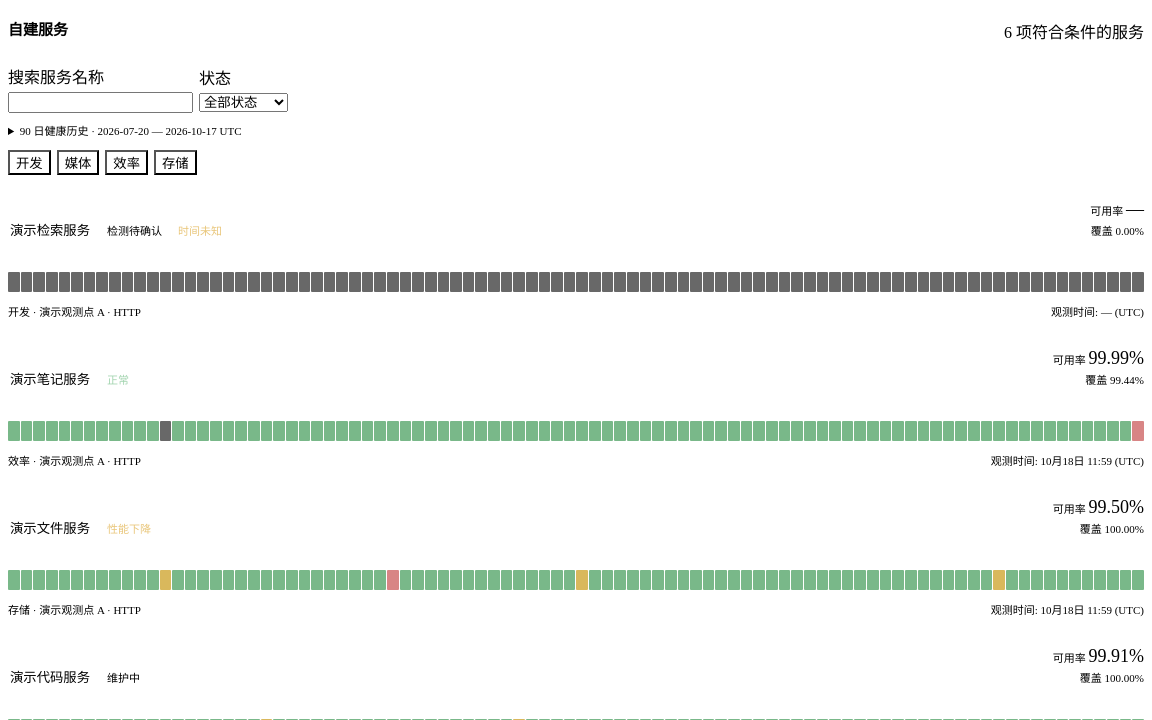
pending checks without an observation remain selectable and unmonitored entries stay separate
This screenshot has width=1152, height=720.
Step 1. Select "检测待确认" in the dropdown labelled "状态" → (244, 102), box x1=199 y1=93 x2=288 y2=112
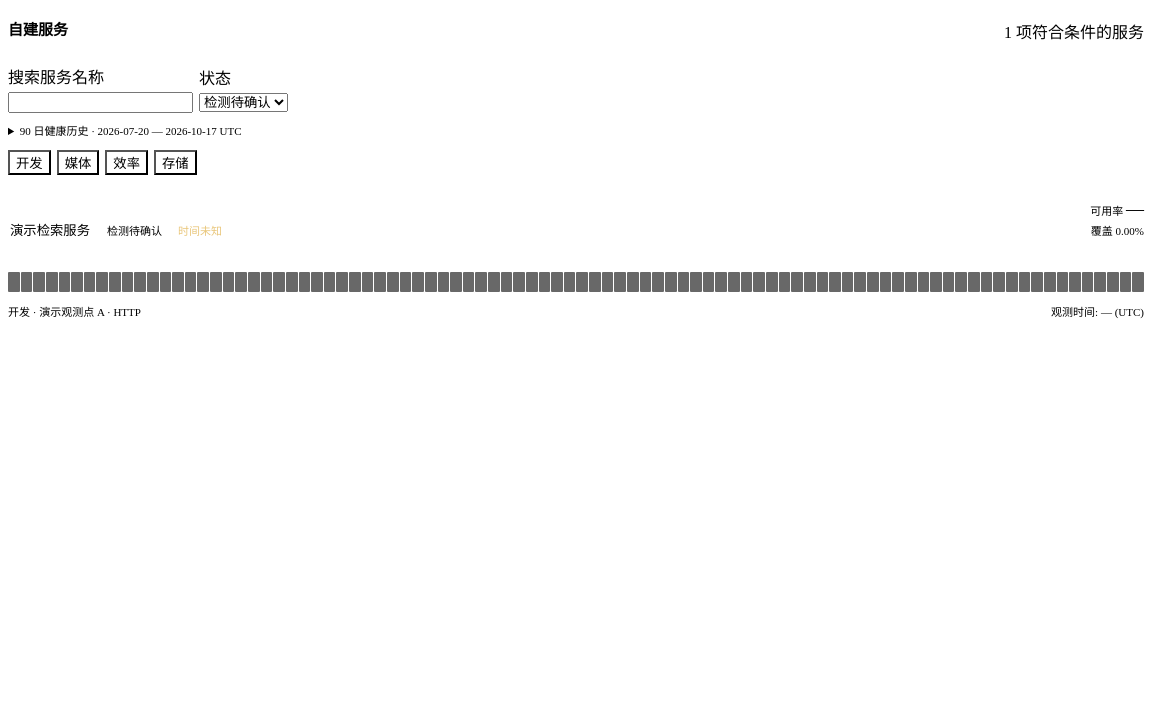
Expected: the text "演示检索服务" is shown, x1=8 y1=218 x2=92 y2=241
Step 2. Select "未监测" in the dropdown labelled "状态" → (244, 102), box x1=199 y1=93 x2=288 y2=112
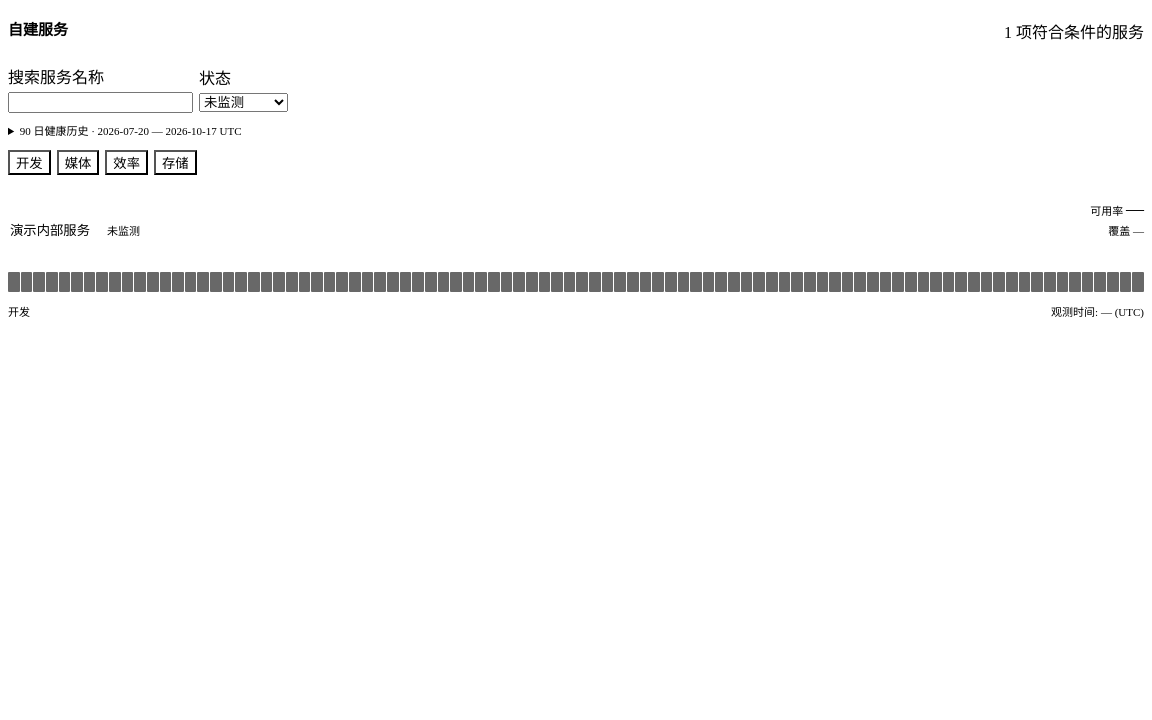
Expected: the text "演示内部服务" is shown, x1=8 y1=218 x2=92 y2=241
Expected: the text "演示检索服务" is gone
